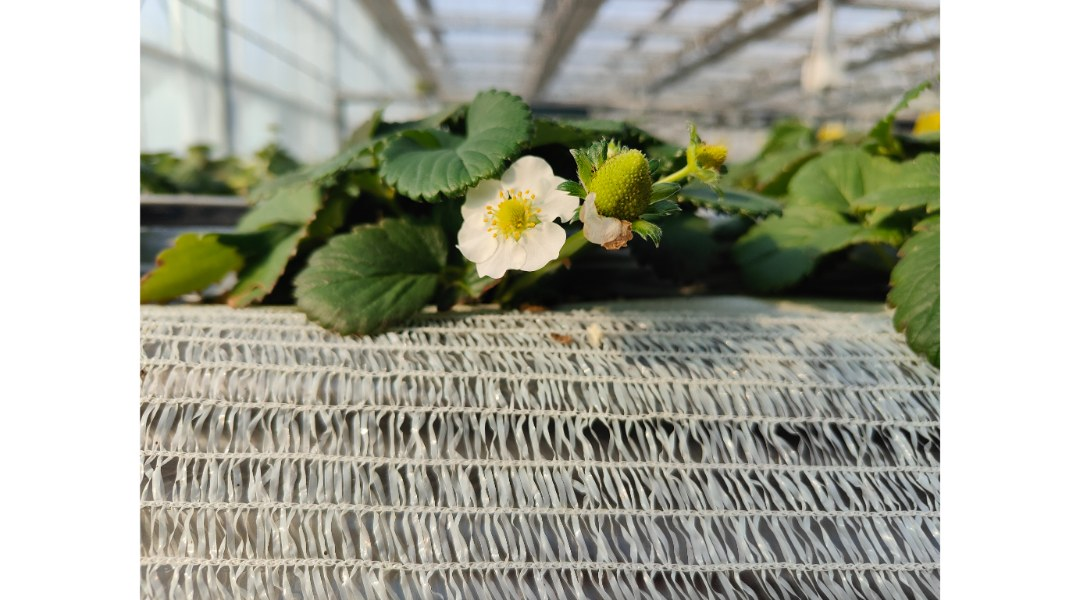berry: (576, 134, 655, 233), (679, 139, 744, 195)
flower: (455, 154, 573, 285)
